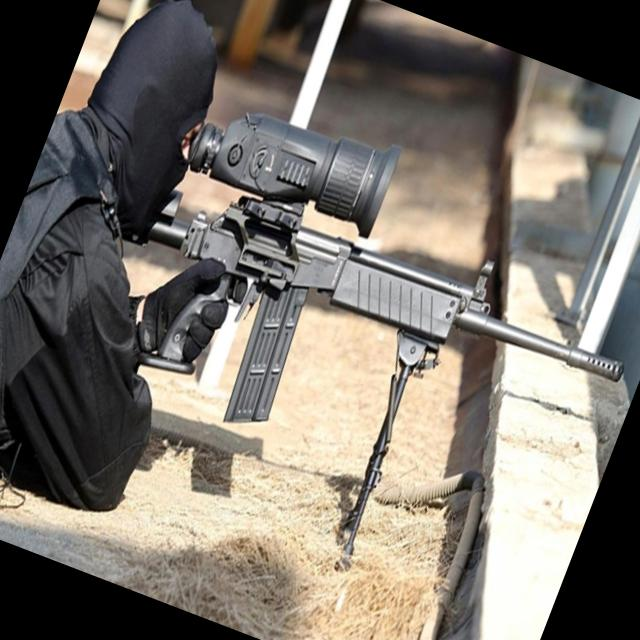Weapon: (29, 57, 640, 629)
